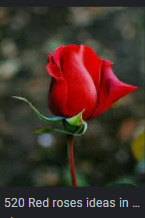RedRose: (46, 42, 126, 119)
